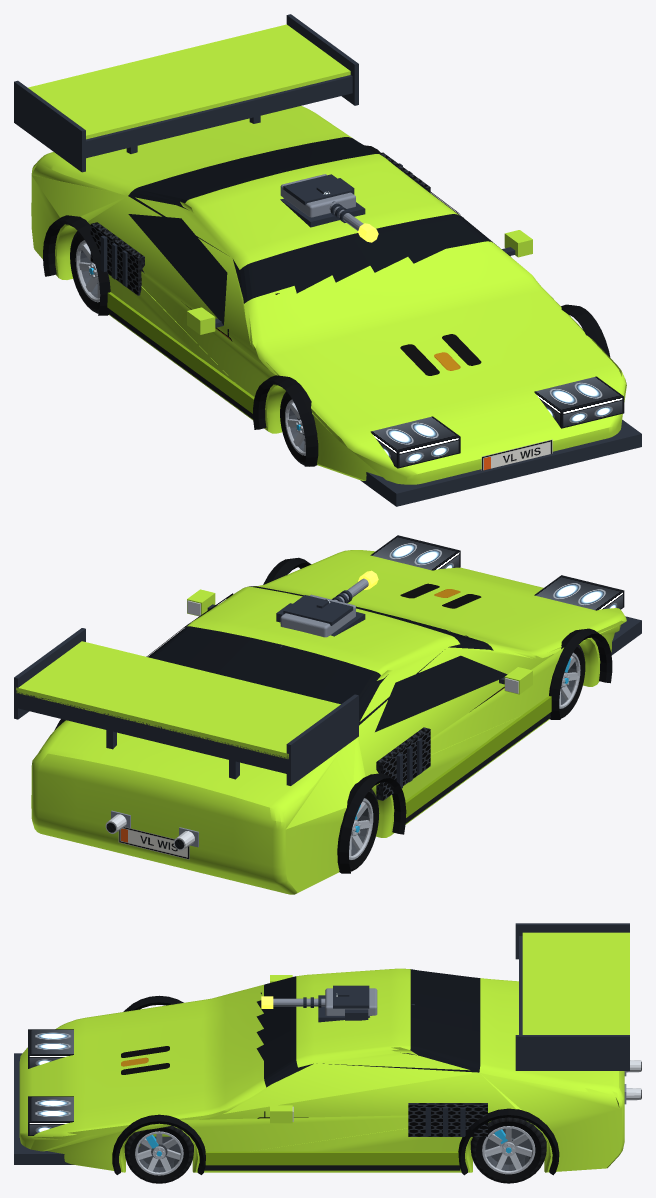
File: wisp_r.glb
3 renders of one model, top to bottom at view 1: azimuth 30°, elevation 25°; view 2: azimuth 150°, elevation 25°; view 3: azimuth 270°, elevation 25°, orthographic. The views are drawn at different scales.
Parts seen in each view (by area): view 1: chassis, gun, wheel_RR, decals, wheel_FR; view 2: chassis, gun, wheel_RR, wheel_FR, decals; view 3: chassis, wheel_RL, wheel_FL, gun, decals.
Part boxes in pixels (x1,y1,x2,y2): chassis: (14,14,641,506); gun: (280,174,378,242); wheel_RR: (70,231,100,313); decals: (186,305,481,375); wheel_FR: (280,391,305,465); chassis: (14,535,641,894); gun: (276,570,378,637); wheel_RR: (349,789,379,871); wheel_FR: (559,645,585,718); decals: (400,583,504,711); chassis: (14,923,641,1175); wheel_RL: (470,1117,546,1183); wheel_FL: (124,1125,193,1183); gun: (261,985,377,1020); decals: (121,1046,308,1118).
Size of the model in its own units: 2.44 by 1.26 by 4.75.
20 materials, 7 textured.
